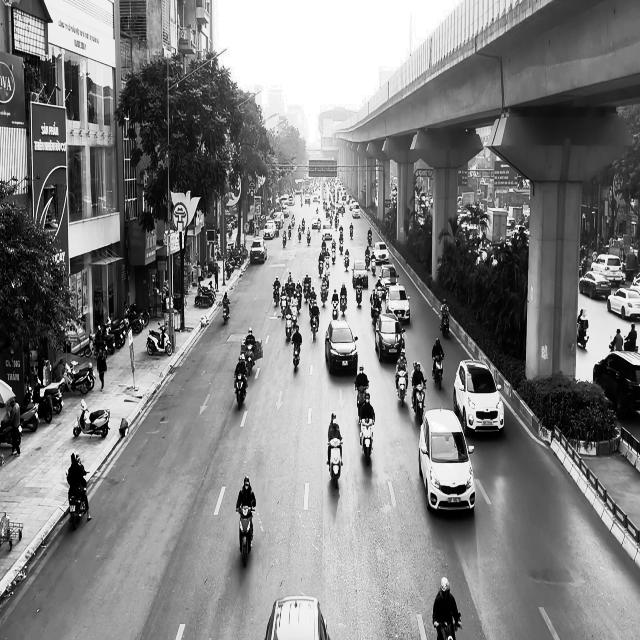car: (418, 408, 475, 512), (453, 358, 504, 435), (592, 351, 640, 418), (264, 595, 330, 639), (325, 319, 358, 374), (374, 313, 405, 362), (606, 286, 640, 321), (579, 270, 611, 300), (386, 284, 410, 322), (352, 259, 368, 288), (250, 238, 266, 264)
motorbike: (73, 398, 110, 439), (65, 469, 88, 529), (236, 504, 255, 567), (146, 321, 172, 356), (327, 438, 343, 489), (433, 612, 462, 640), (358, 417, 374, 465), (411, 378, 426, 421), (234, 370, 247, 409), (355, 383, 369, 418), (395, 370, 408, 406), (432, 355, 444, 389), (439, 306, 450, 338), (577, 319, 589, 348), (309, 309, 319, 342), (291, 341, 301, 372), (355, 276, 362, 307), (222, 299, 230, 324)
